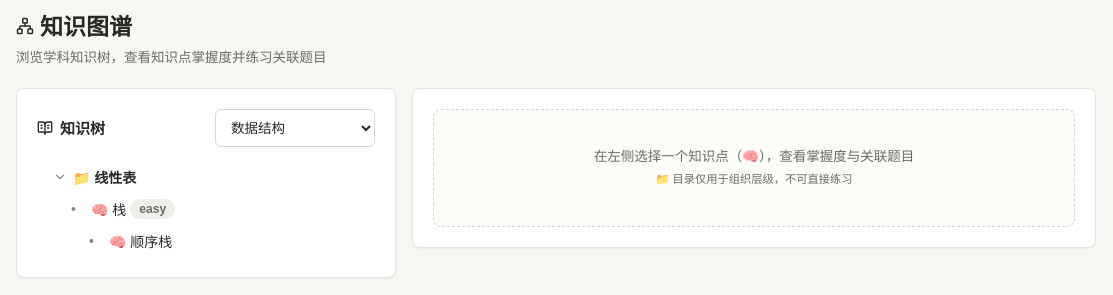
KnowledgeExploreView › 折叠 container 后其后代隐藏
This screenshot has width=1113, height=295.
Click the button with class "tree-btn" showing "📁 线性表" at (105, 178), box [45,161,375,193]
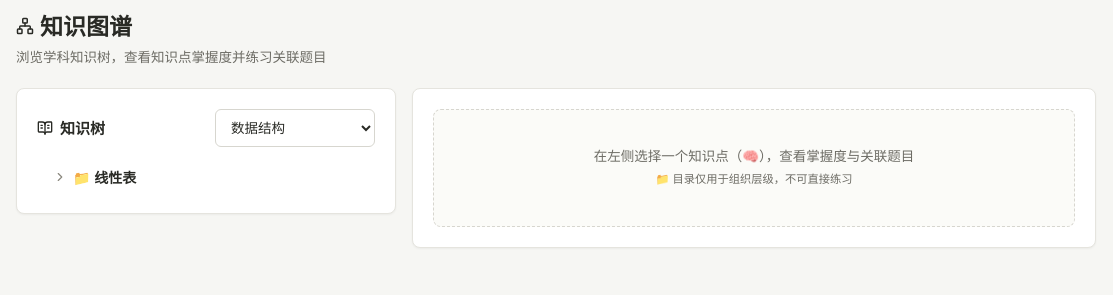
Expected: the text "顺序栈" is gone
